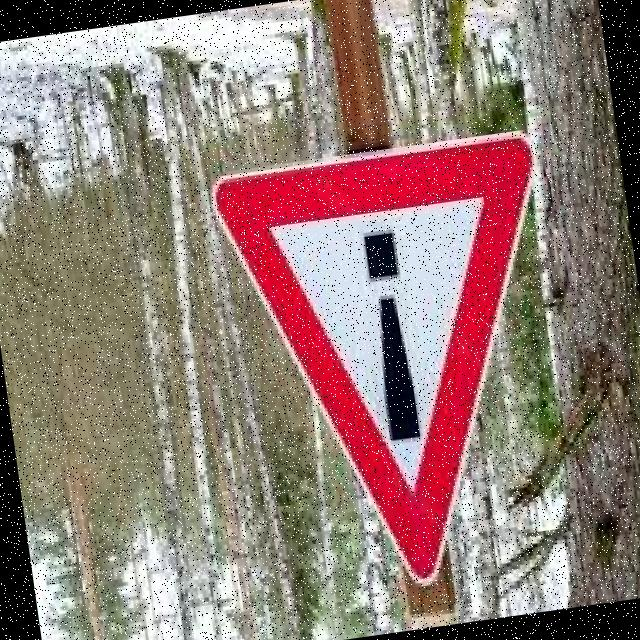warning: (199, 123, 593, 614)
